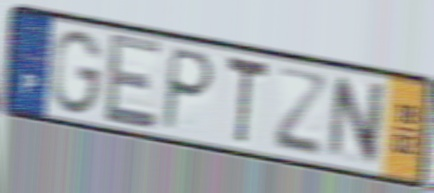E: (103, 29, 164, 133)
G: (50, 27, 106, 118)
N: (325, 74, 389, 169)
P: (158, 44, 218, 134)
T: (224, 51, 271, 151)
Z: (271, 63, 330, 161)
